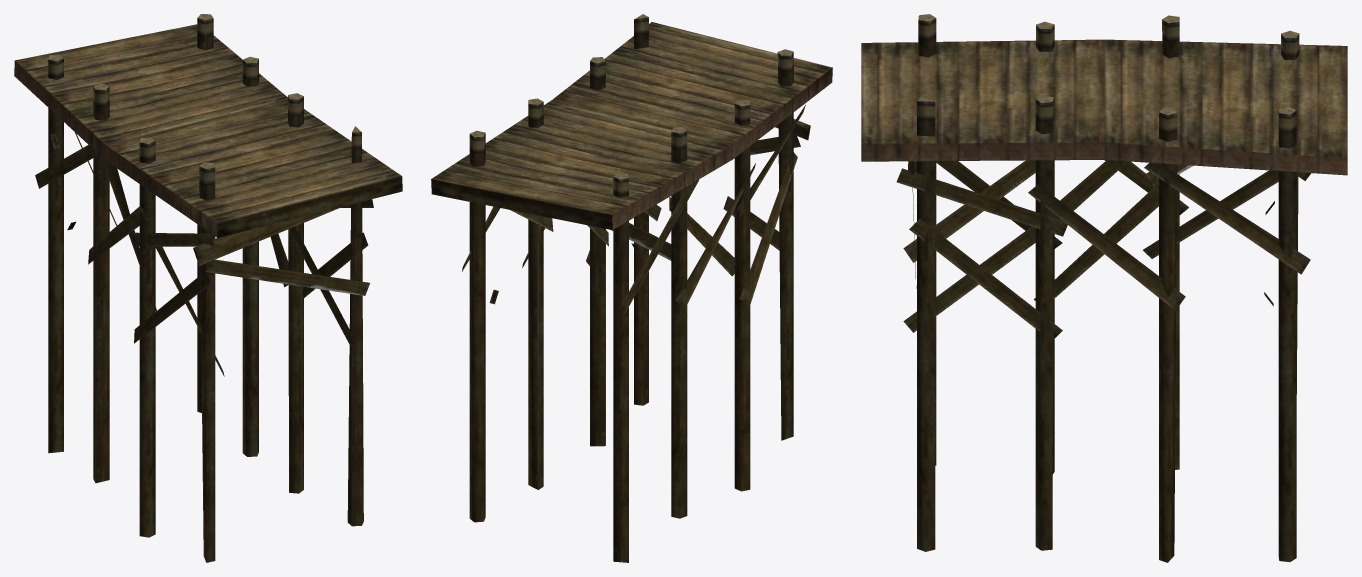
The model's file is nsm-general_obj_01_2_lod_01.fbx.
3 views of the same model, side by side, from view 1: azimuth 30°, elevation 25°; view 2: azimuth 150°, elevation 25°; view 3: azimuth 270°, elevation 25° (orthographic). The views are drawn at different scales.
Parts seen in each view (by area): view 1: Mesh02; view 2: Mesh02; view 3: Mesh02.
Part boxes in pixels (x1,y1,x2,y2): Mesh02: (14, 14, 402, 562); Mesh02: (431, 14, 832, 562); Mesh02: (861, 14, 1347, 562).
Bounding box in the file's own units: 5.43 × 10.44 × 10.
